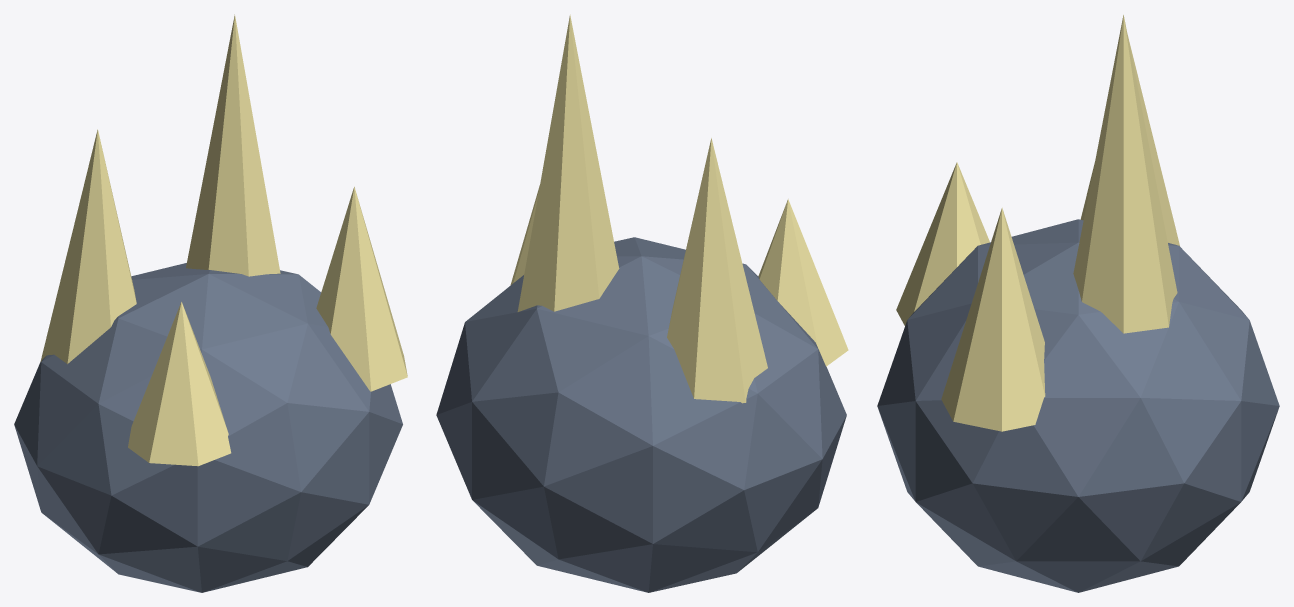
File: ore_Promerium.glb
The picture shows the model from 3 angles, left to right: view 1: azimuth 30°, elevation 25°; view 2: azimuth 150°, elevation 25°; view 3: azimuth 270°, elevation 25°; orthographic projection. The views are drawn at different scales.
Parts seen in each view (by area): view 1: rock, crystal_1, crystal_0, crystal_3, crystal_2; view 2: rock, crystal_1, crystal_0, crystal_3, crystal_2; view 3: rock, crystal_1, crystal_2, crystal_3, crystal_0.
Boxes of the visible parts, left/top/right/bottom form: rock: left=14, top=263, right=402, bottom=592; crystal_1: left=186, top=14, right=280, bottom=276; crystal_0: left=40, top=129, right=136, bottom=363; crystal_3: left=128, top=301, right=231, bottom=466; crystal_2: left=316, top=186, right=407, bottom=391; rock: left=436, top=237, right=846, bottom=592; crystal_1: left=517, top=14, right=619, bottom=311; crystal_0: left=667, top=138, right=767, bottom=403; crystal_3: left=758, top=199, right=848, bottom=366; crystal_2: left=510, top=185, right=539, bottom=285; rock: left=877, top=219, right=1279, bottom=592; crystal_1: left=1073, top=15, right=1177, bottom=333; crystal_2: left=941, top=207, right=1045, bottom=431; crystal_3: left=896, top=162, right=989, bottom=325; crystal_0: left=1080, top=35, right=1179, bottom=245.
Bounding box in the file's own units: 1.24 × 1.85 × 1.16.
